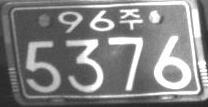3: (65, 38, 104, 94)
5: (25, 40, 60, 93)
6: (153, 35, 192, 89), (89, 9, 115, 31)
7: (107, 36, 142, 90)
9: (58, 10, 83, 33)
주: (119, 8, 143, 31)
